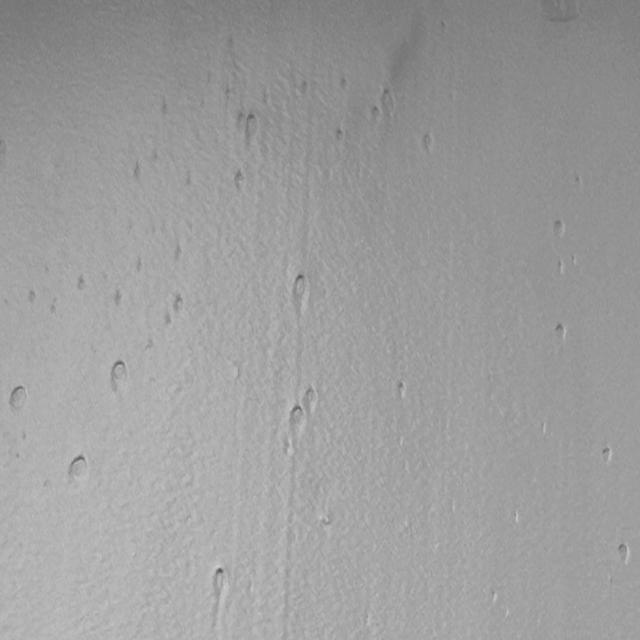pin holes: (542, 0, 582, 30), (288, 270, 312, 312), (108, 358, 134, 396), (286, 404, 309, 438), (64, 452, 88, 484), (5, 382, 29, 413), (210, 565, 230, 599), (378, 88, 399, 117), (242, 112, 261, 144), (614, 541, 634, 568), (420, 132, 439, 158), (302, 387, 320, 414), (172, 292, 190, 316), (231, 169, 248, 194), (551, 216, 569, 239), (551, 323, 569, 346), (260, 84, 274, 111), (598, 444, 614, 467), (129, 160, 145, 183), (282, 435, 296, 460), (24, 288, 40, 309), (370, 105, 385, 126), (47, 297, 62, 318), (223, 83, 236, 107), (76, 273, 91, 292), (113, 289, 127, 309), (0, 138, 12, 161), (396, 381, 409, 402), (158, 96, 171, 116), (572, 172, 586, 189), (338, 76, 351, 94), (555, 260, 567, 279), (163, 312, 175, 331), (334, 126, 347, 143), (299, 80, 312, 97), (319, 513, 332, 528), (172, 244, 182, 263), (488, 588, 498, 606), (184, 170, 194, 188), (22, 430, 32, 446), (570, 255, 581, 269), (134, 256, 143, 272), (14, 452, 24, 462)
